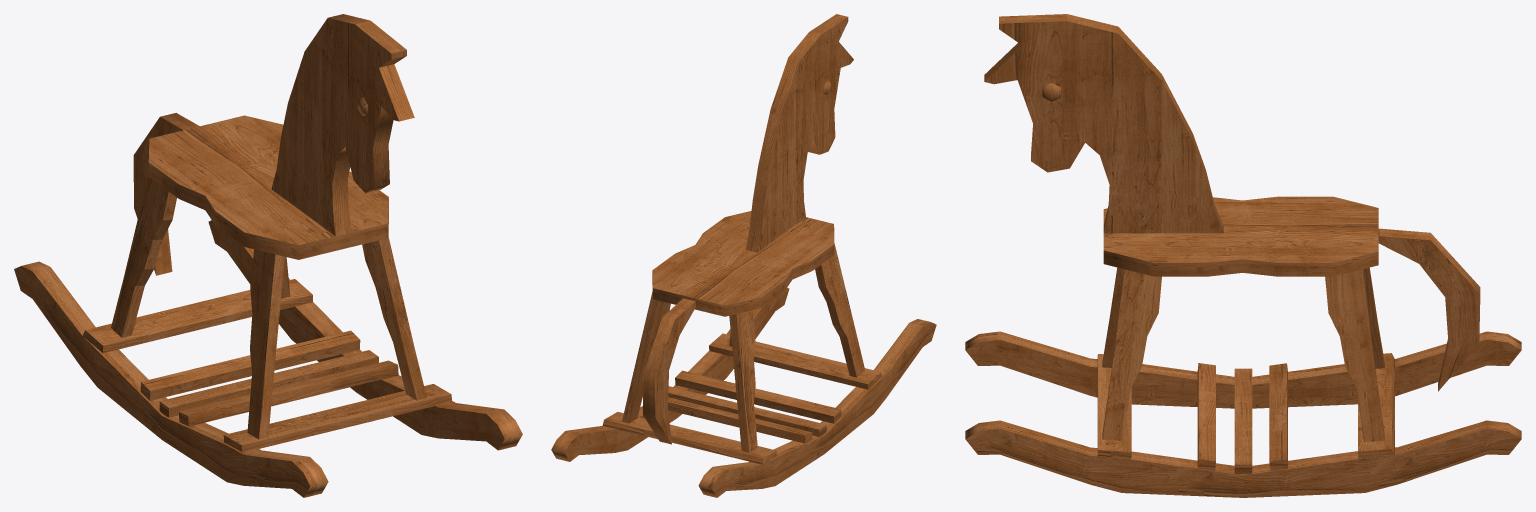
File: M_Home_Garden_Toy_Horse.fbx
The picture shows the model from 3 angles, left to right: view 1: azimuth 30°, elevation 25°; view 2: azimuth 150°, elevation 25°; view 3: azimuth 270°, elevation 25°; orthographic projection. The views are drawn at different scales.
Parts seen in each view (by area): view 1: M_Home_Garden_Toy_Horse; view 2: M_Home_Garden_Toy_Horse; view 3: M_Home_Garden_Toy_Horse.
Part boxes in pixels (box(x1,y1,x2,y2)): M_Home_Garden_Toy_Horse: box(14, 14, 522, 497); M_Home_Garden_Toy_Horse: box(551, 14, 936, 497); M_Home_Garden_Toy_Horse: box(965, 14, 1521, 497).
Size of the model in its own units: 40.14 by 83.14 by 97.03.
